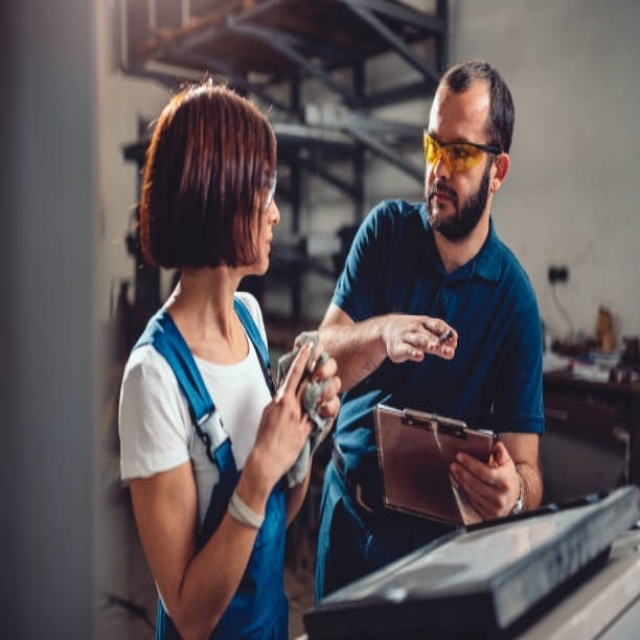Gafas: (423, 130, 501, 177), (248, 168, 278, 212)
Sin_guantes: (243, 339, 326, 490), (450, 438, 521, 523), (381, 313, 458, 367)
Sin_mascara: (256, 221, 278, 273), (426, 184, 457, 215)
